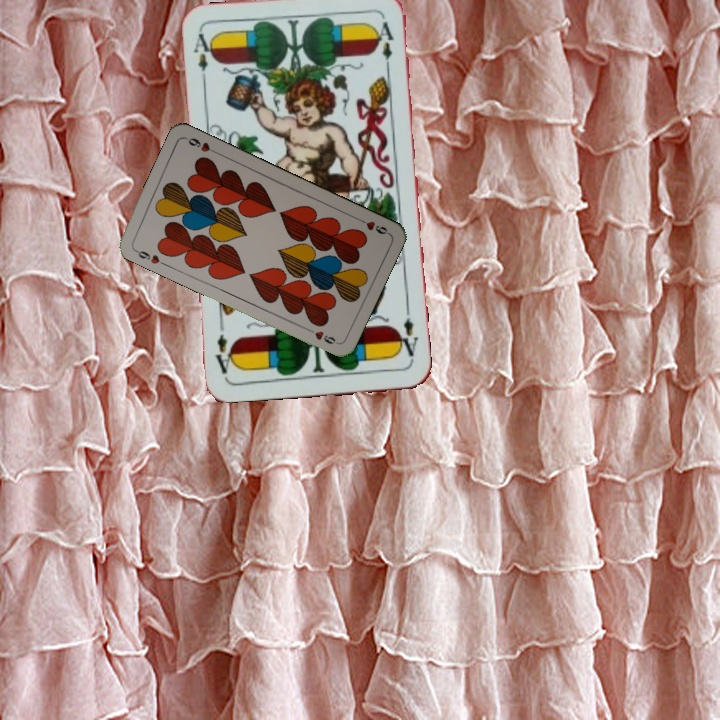EA: (394, 305, 421, 364), (189, 29, 216, 87)
H9: (353, 214, 391, 237), (130, 245, 168, 268)
